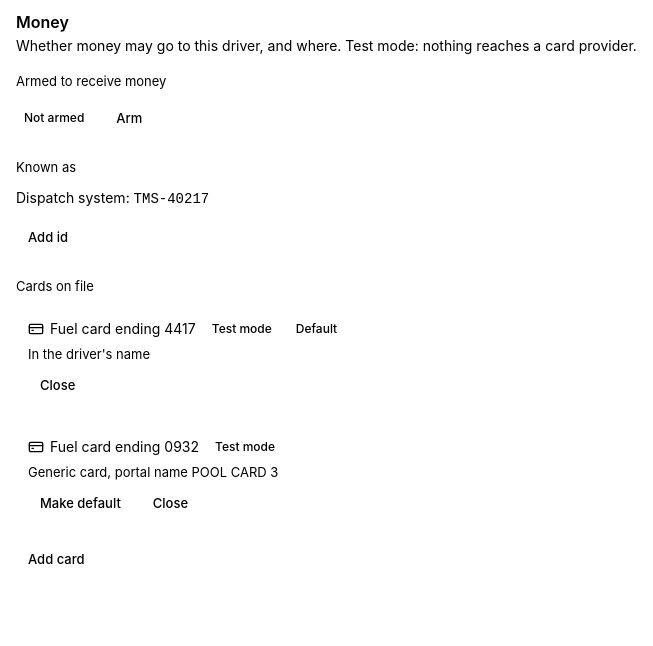
it: DriverMoneyPanel › sends Make default and Close to the card's own routes
Click the button "Make default" at (80, 503), box x1=28 y1=487 x2=133 y2=519
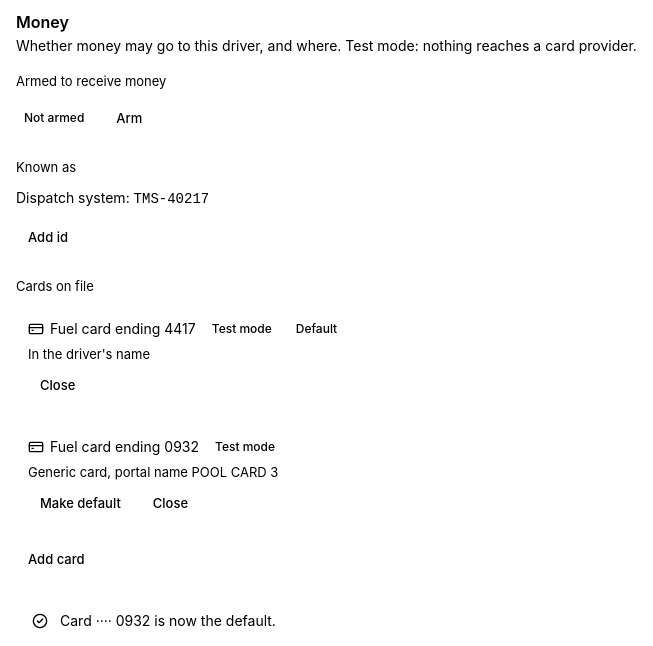
Expected: the text "Card ···· 0932 is now the default." is shown, x1=60 y1=612 x2=276 y2=629
Click the button "Close" below "4417" at (58, 385), box x1=28 y1=369 x2=87 y2=401
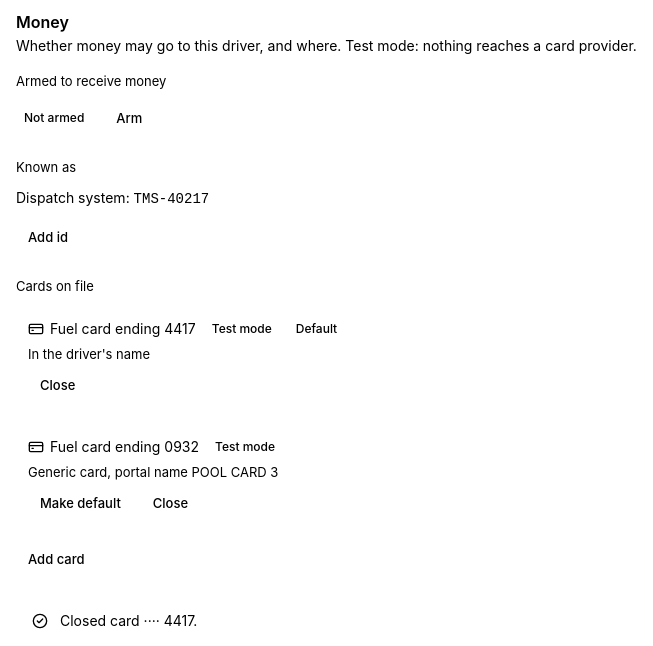
Expected: the text "Closed card ···· 4417." is shown, x1=60 y1=612 x2=197 y2=629
